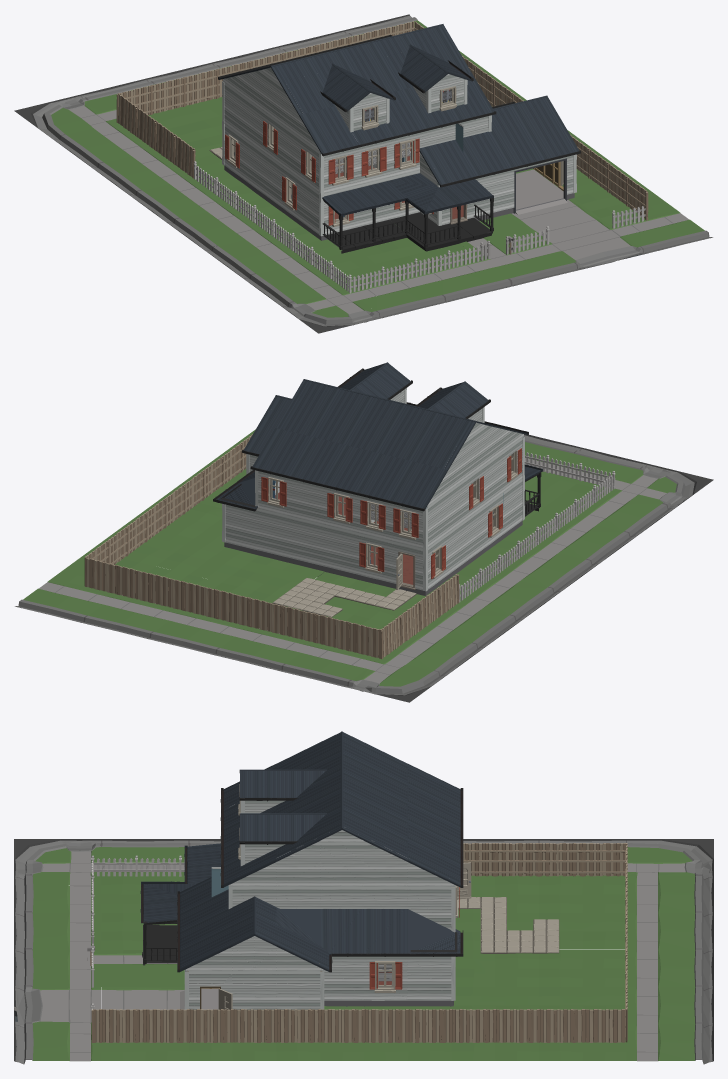
File: Player_House.fbx
The picture shows the model from 3 angles, top to bottom: view 1: azimuth 30°, elevation 25°; view 2: azimuth 150°, elevation 25°; view 3: azimuth 270°, elevation 25°; orthographic projection. The views are drawn at different scales.
Visible parts, largest first — view 1: Outside_Grass, Roof, Walls, Fence, Ground; view 2: Outside_Grass, Walls, Roof, Fence, Ground; view 3: Outside_Grass, Roof, Walls, Fence, Ground.
Boxes of the visible parts, left/top/right/bottom form: Outside_Grass: left=14, top=14, right=712, bottom=333; Roof: left=222, top=24, right=576, bottom=216; Walls: left=218, top=24, right=580, bottom=240; Fence: left=116, top=21, right=648, bottom=292; Ground: left=297, top=104, right=492, bottom=253; Outside_Grass: left=15, top=429, right=713, bottom=702; Walls: left=222, top=379, right=528, bottom=595; Roof: left=213, top=362, right=542, bottom=511; Fence: left=84, top=434, right=615, bottom=659; Ground: left=275, top=462, right=539, bottom=584; Outside_Grass: left=14, top=839, right=713, bottom=1064; Roof: left=140, top=733, right=463, bottom=969; Walls: left=177, top=731, right=463, bottom=1010; Fence: left=87, top=843, right=627, bottom=1042; Ground: left=142, top=804, right=406, bottom=984.
Size of the model in its own units: 3000 by 1072 by 4000.
Materials: 1 (1 with a texture image).
